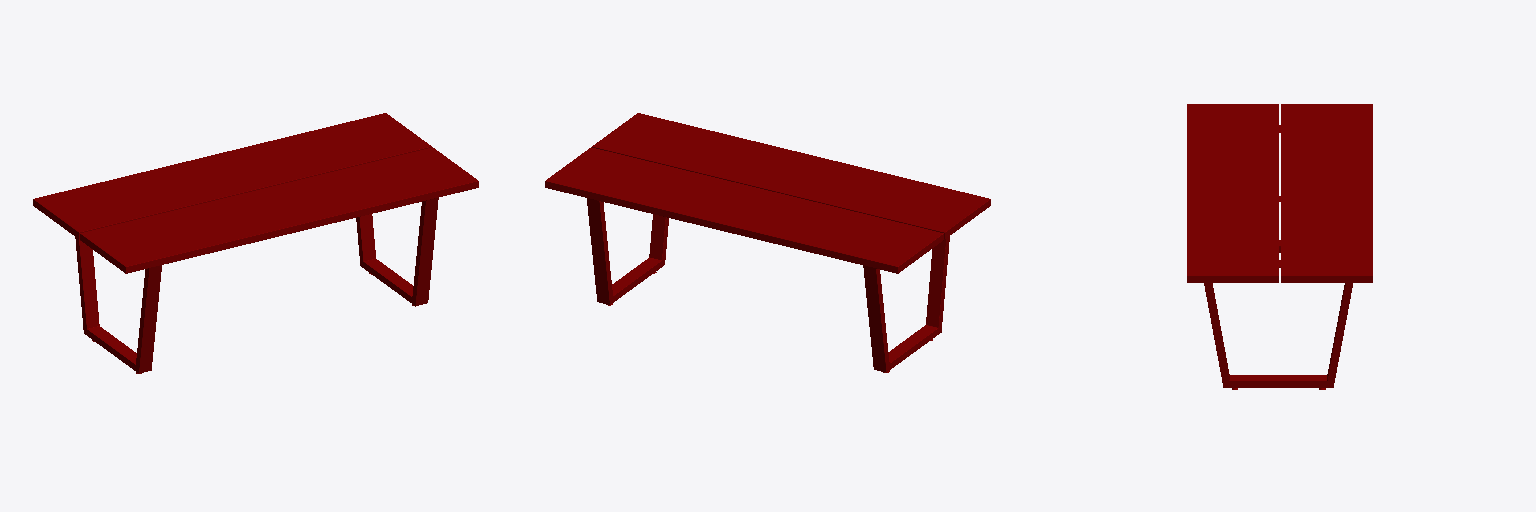
File: Chatham_table.obj
3 renders of one model, left to right at view 1: azimuth 30°, elevation 25°; view 2: azimuth 150°, elevation 25°; view 3: azimuth 270°, elevation 25°, orthographic.
Parts seen in each view (by area): view 1: SM_Mio_table; view 2: SM_Mio_table; view 3: SM_Mio_table.
Part boxes in pixels (bbox=[...]): SM_Mio_table: bbox=[33, 113, 478, 373]; SM_Mio_table: bbox=[545, 113, 990, 372]; SM_Mio_table: bbox=[1187, 104, 1372, 389].
Bounding box in the file's own units: 88.63 × 31.73 × 40.46.